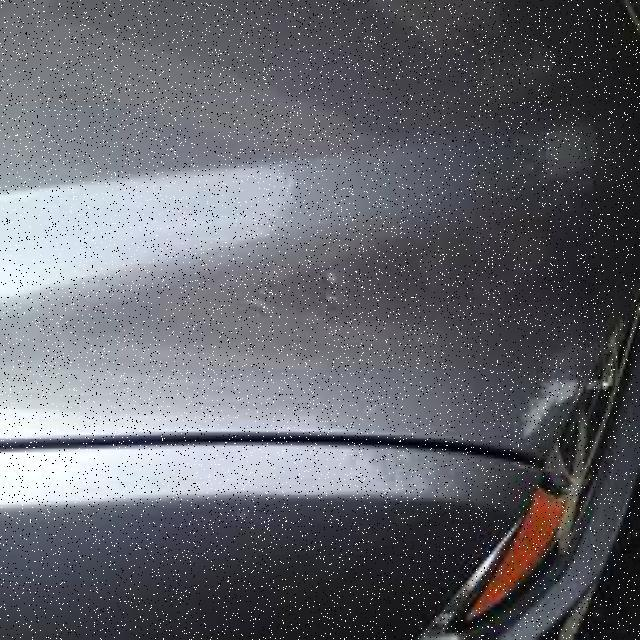bonnet-dent: (0, 0, 596, 528)
